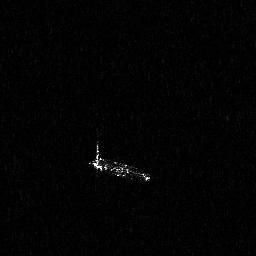ship: (84, 138, 153, 186)
